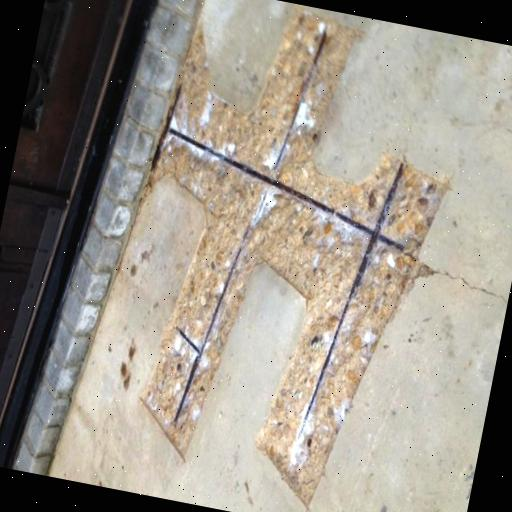spalling: (135, 18, 446, 506)
